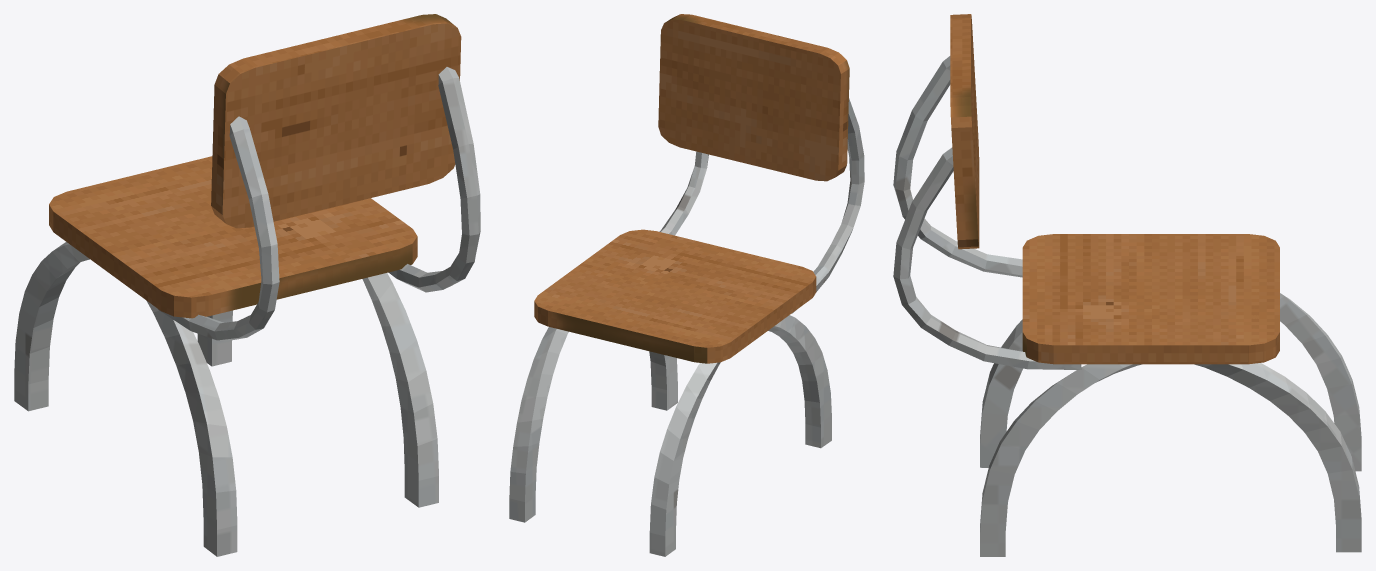
The model's file is Sedia_Rettangolo_3.fbx.
The picture shows the model from 3 angles, left to right: view 1: azimuth 30°, elevation 25°; view 2: azimuth 150°, elevation 25°; view 3: azimuth 270°, elevation 25°; orthographic projection. The views are drawn at different scales.
Visible parts, largest first — view 1: Cube.065; view 2: Cube.065; view 3: Cube.065.
Boxes of the visible parts, x1,y1,x2,y2 form: Cube.065: (14, 14, 480, 556); Cube.065: (509, 14, 864, 556); Cube.065: (893, 14, 1361, 556).
Bounding box in the file's own units: 0.5964 × 1.12 × 1.06.
2 materials, 2 textured.
